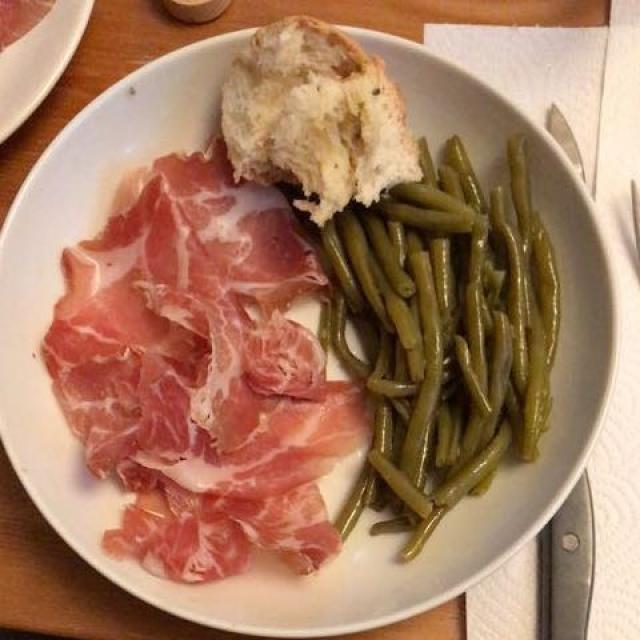beans: (329, 149, 557, 529)
bread: (221, 21, 423, 217)
ham: (46, 155, 362, 554)
